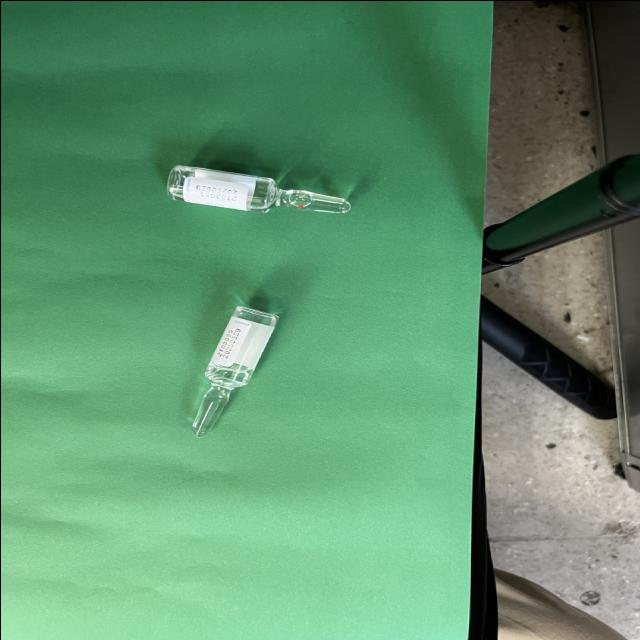Ampoules: (192, 304, 277, 436), (166, 164, 350, 212)
